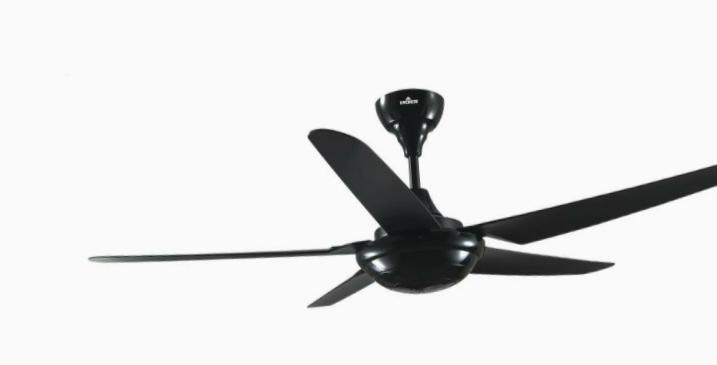fan: (74, 82, 717, 329)
